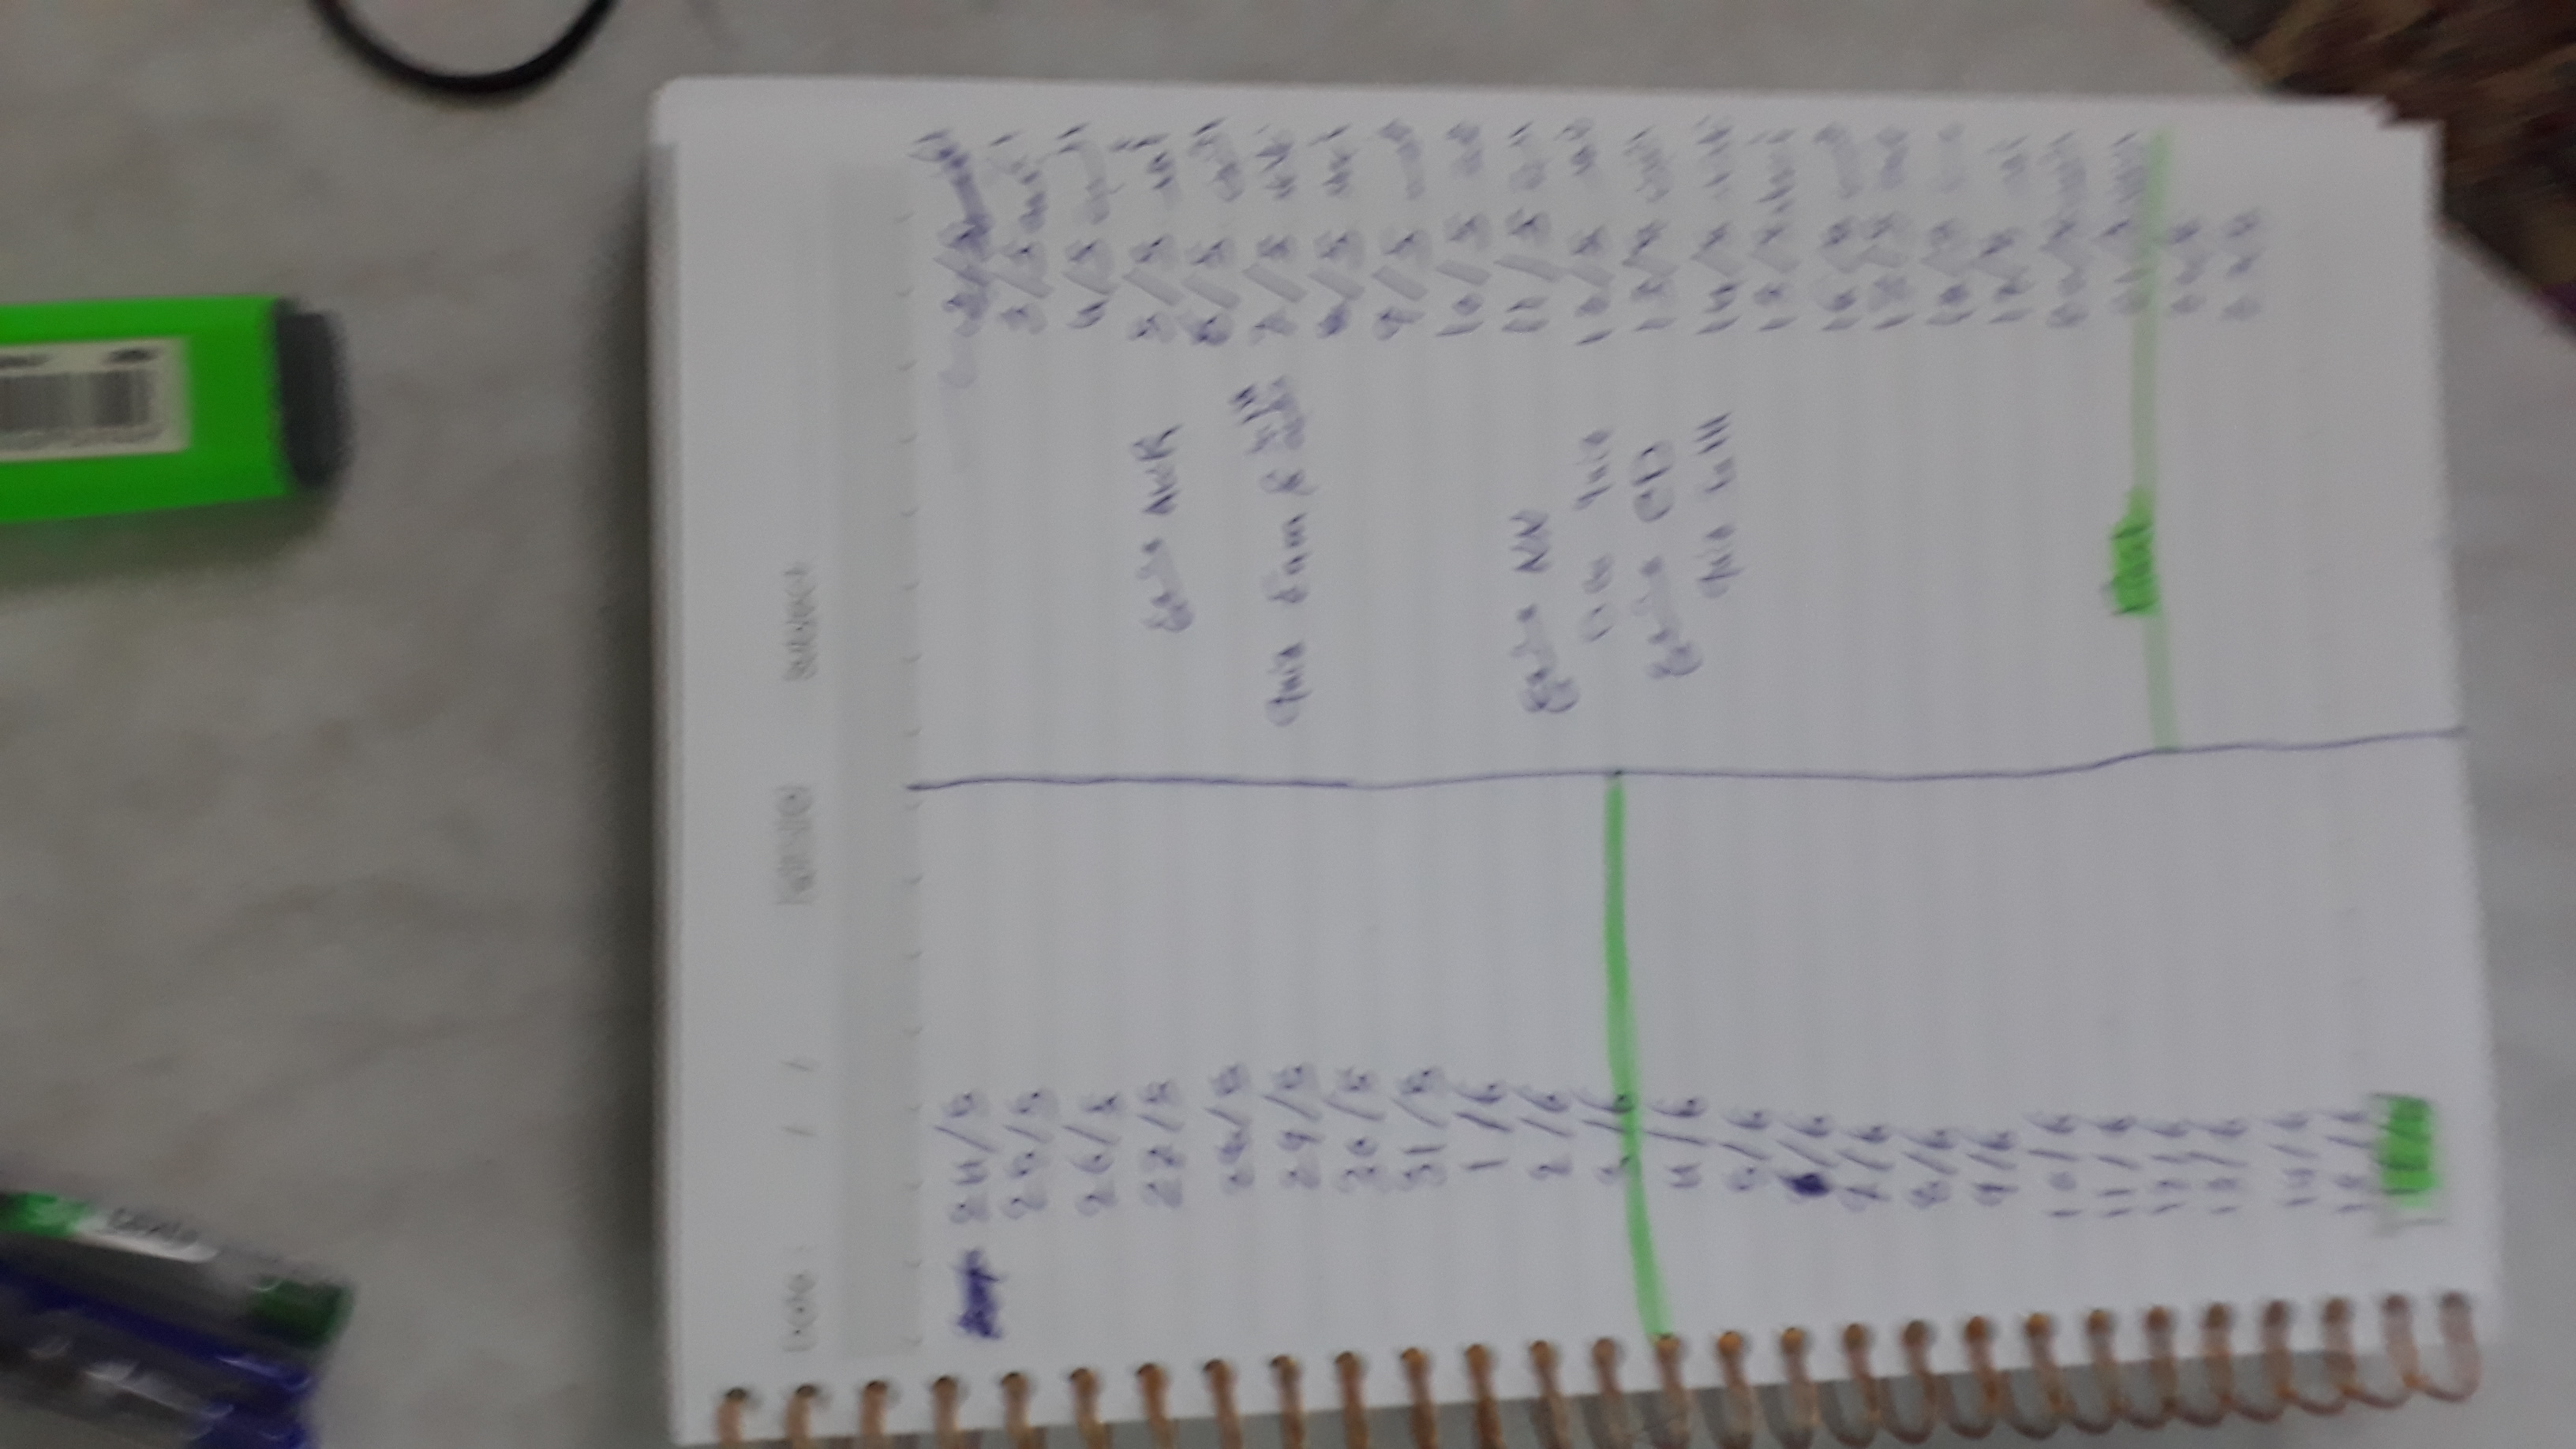dftar: (637, 74, 2489, 1449)
